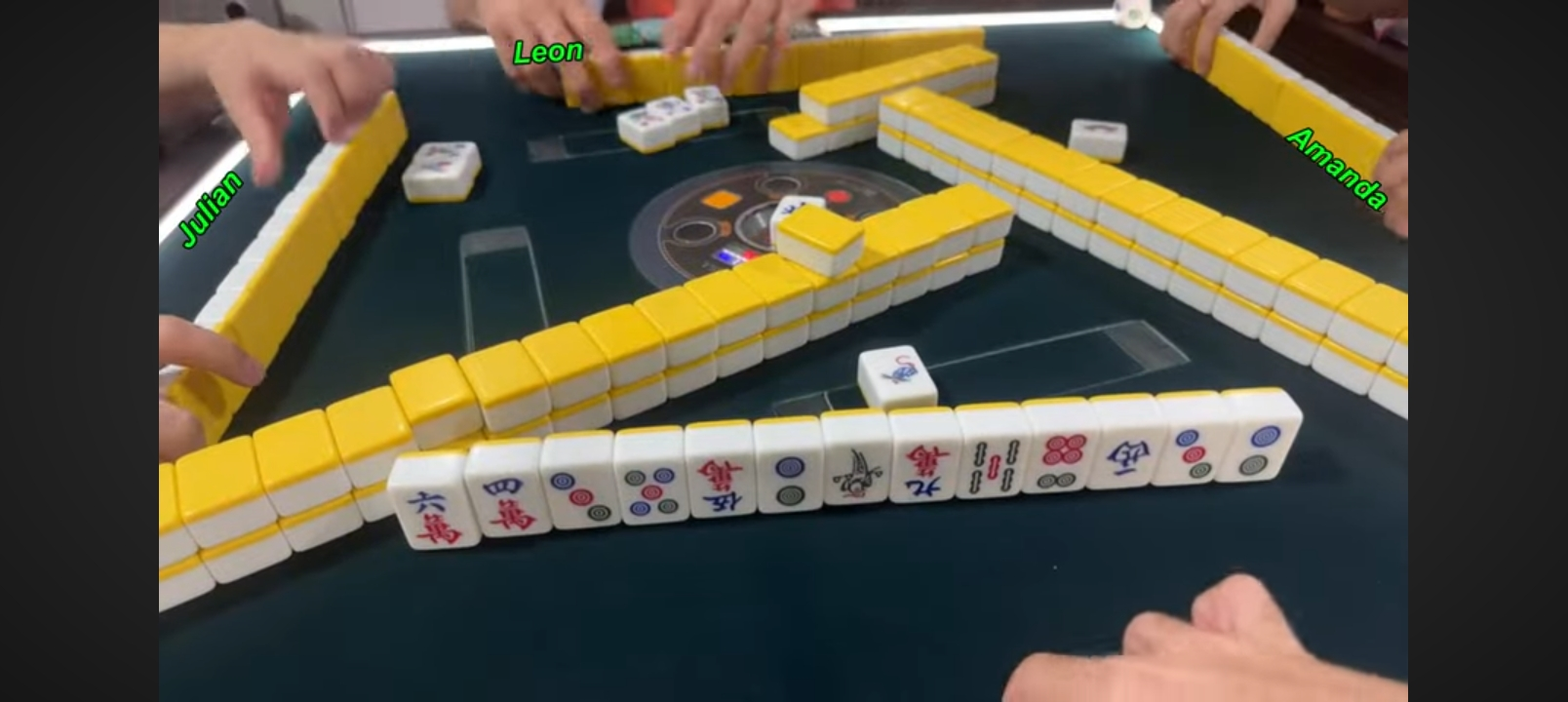TILE: (474, 470, 544, 538), (400, 484, 473, 549), (1160, 423, 1235, 485), (856, 345, 940, 400), (1222, 422, 1302, 479), (548, 464, 617, 529), (1094, 426, 1167, 487), (825, 441, 894, 504), (893, 438, 963, 500), (962, 435, 1032, 497), (688, 453, 755, 516), (620, 461, 687, 522), (1031, 432, 1100, 491), (758, 449, 823, 510)
